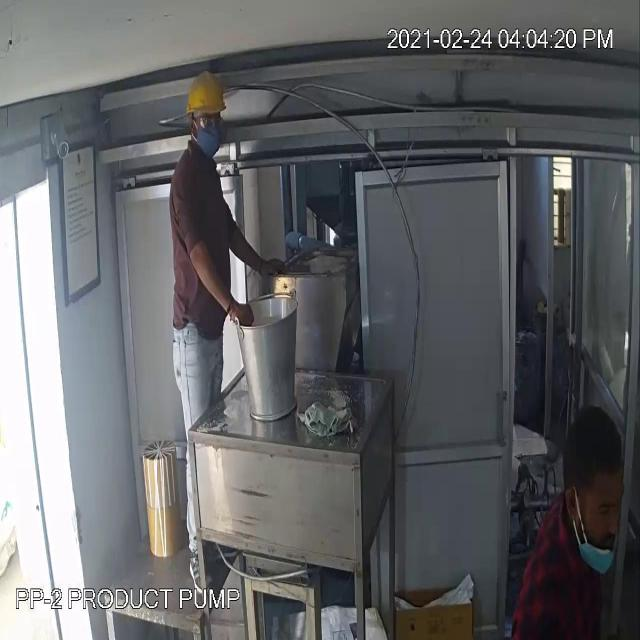helmet: (184, 63, 230, 127)
no-helmet: (556, 398, 630, 526)
